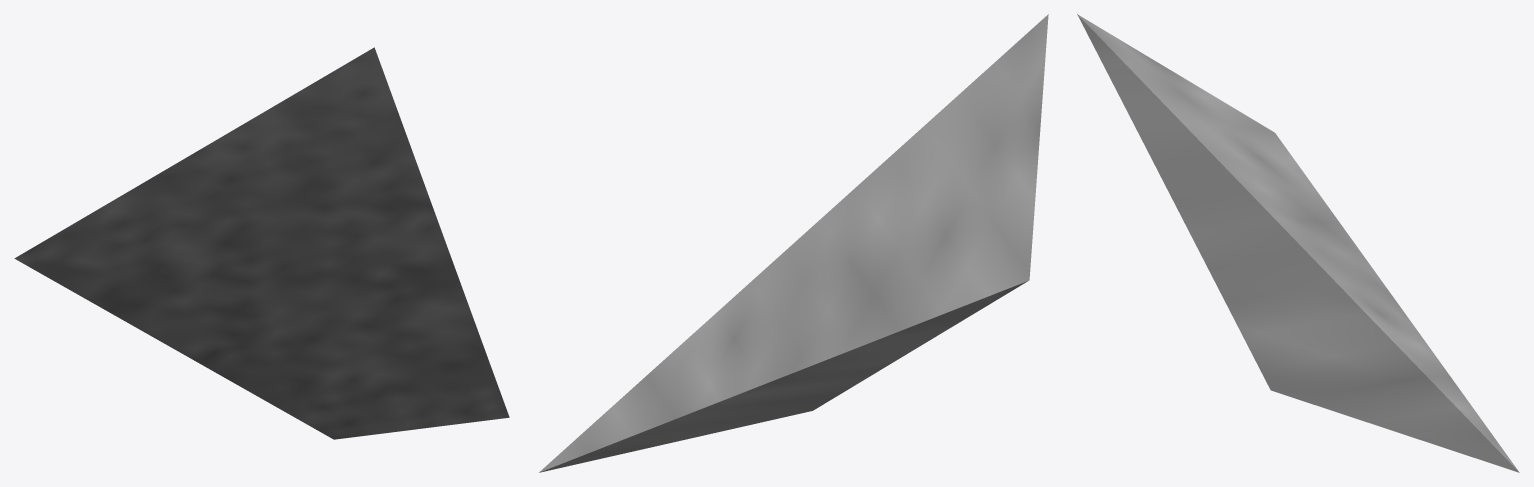
File: body_cell_013.fbx
The picture shows the model from 3 angles, left to right: view 1: azimuth 30°, elevation 25°; view 2: azimuth 150°, elevation 25°; view 3: azimuth 270°, elevation 25°; orthographic projection. The views are drawn at different scales.
Parts seen in each view (by area): view 1: body_cell.013; view 2: body_cell.013; view 3: body_cell.013.
Boxes of the visible parts, bbox=[...] form: body_cell.013: bbox=[14, 47, 509, 439]; body_cell.013: bbox=[539, 14, 1048, 472]; body_cell.013: bbox=[1077, 14, 1519, 472].
Bounding box in the file's own units: 3.21 × 3 × 3.62.
